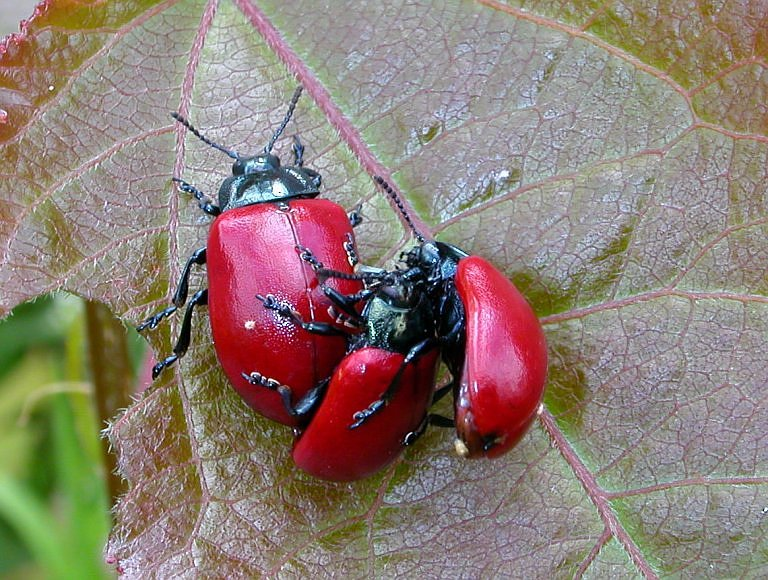Chrysomela_populi: (136, 79, 372, 434), (248, 238, 447, 486), (410, 234, 561, 467)
